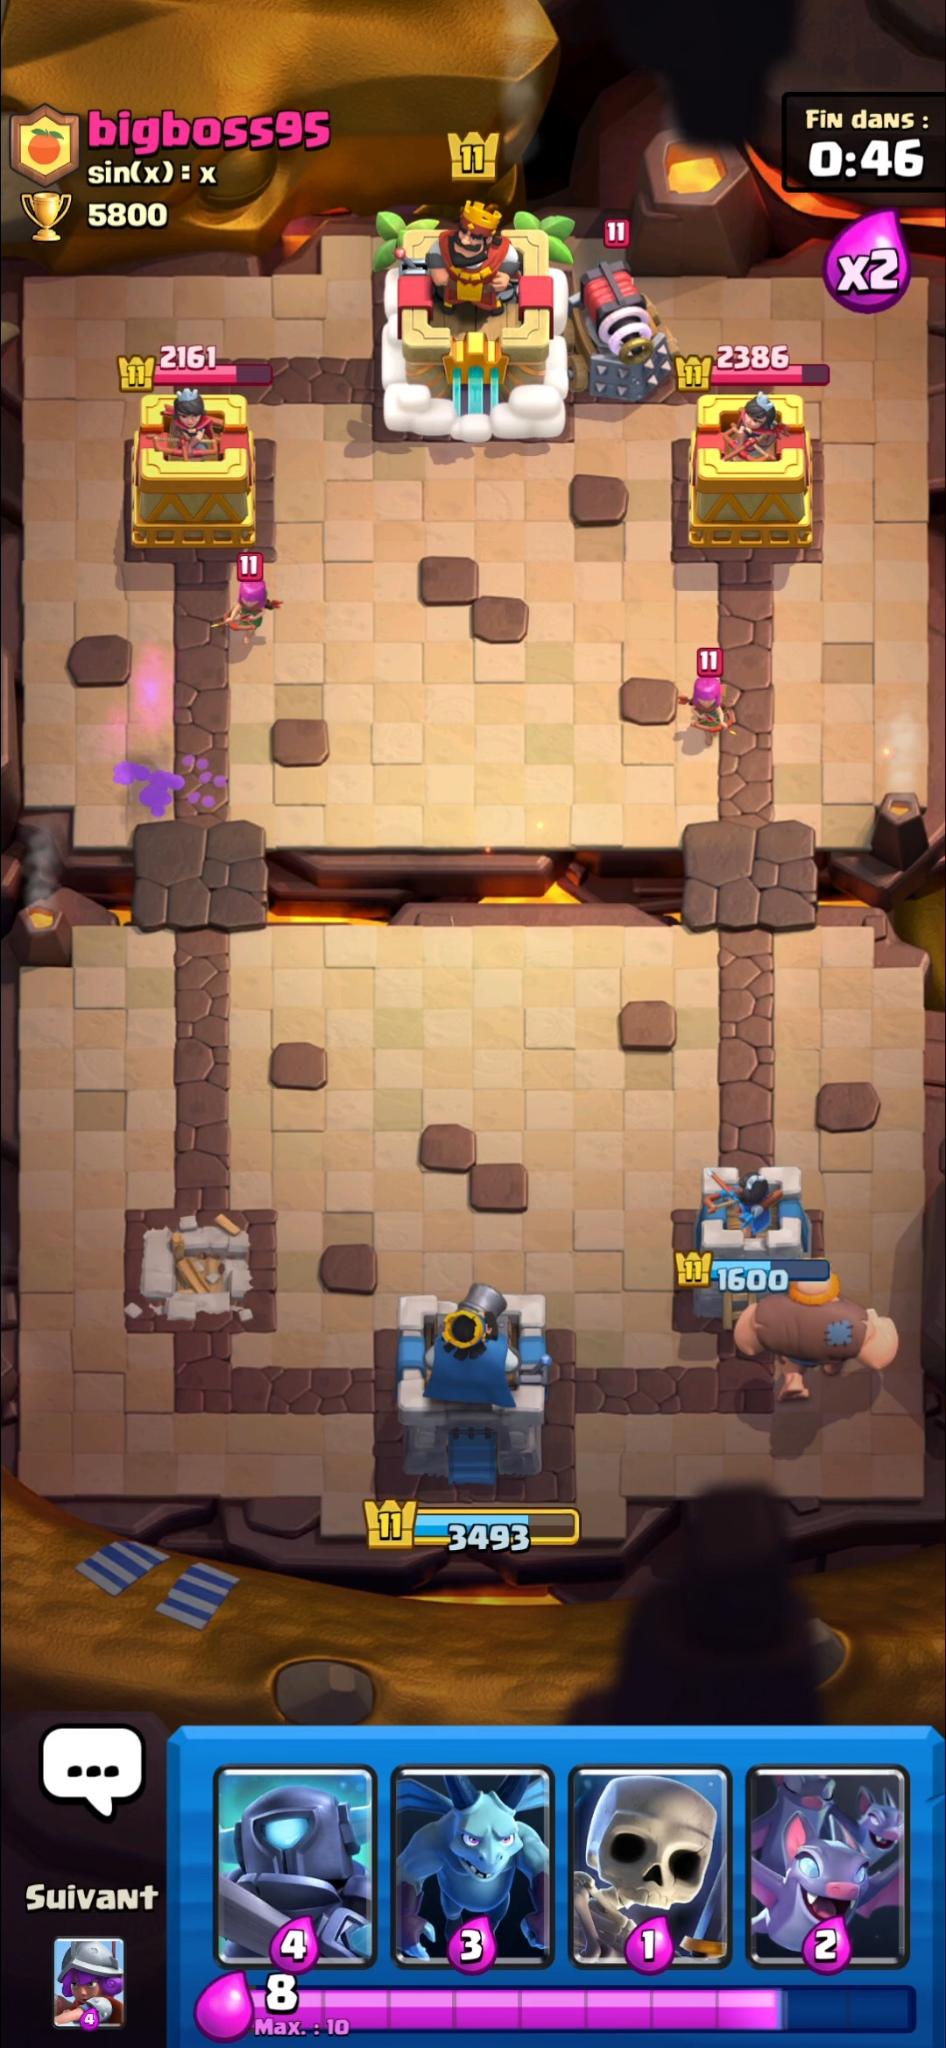archere: (677, 678, 747, 747), (214, 571, 285, 639)
geant: (738, 1262, 900, 1413)
zappy: (567, 259, 686, 405)
